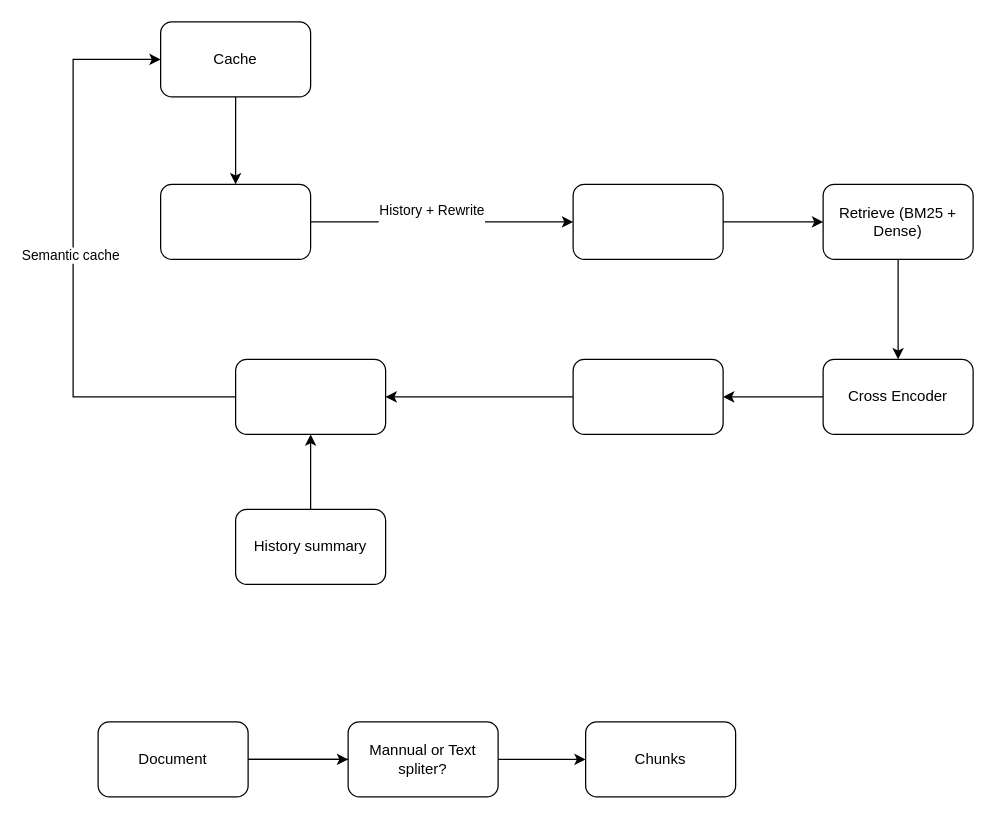
Image size: 995x819. Some labels were removed from this diagram. Each missing label, with the centre of its shape:
Context: (x=647, y=396)
Contextual query: (x=647, y=221)
LLM: (x=310, y=396)
Query: (x=235, y=221)
